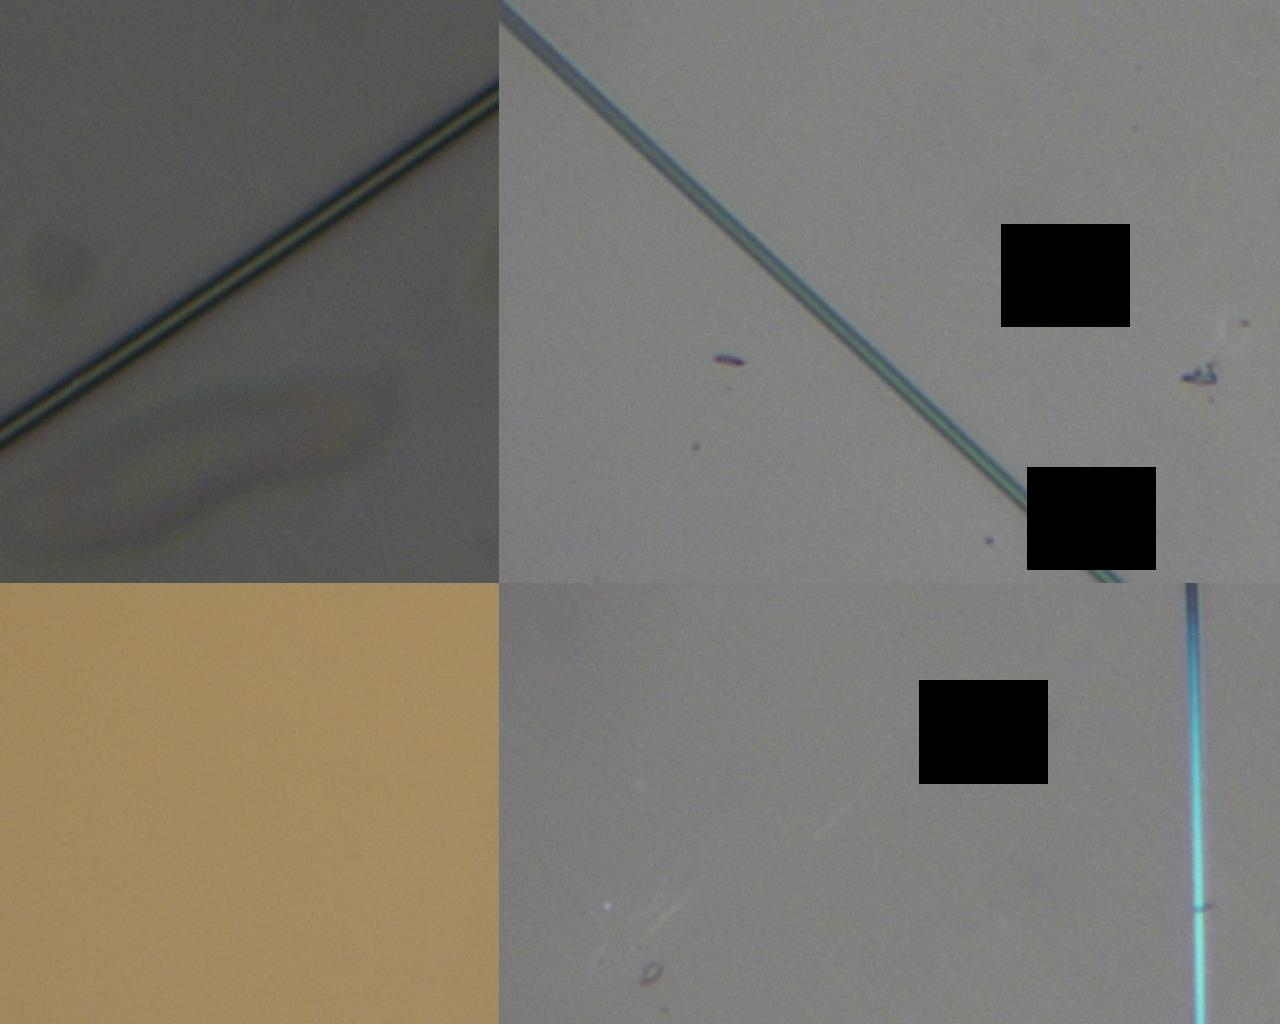fiber: (460, 266, 1237, 449), (931, 0, 1053, 266), (235, 0, 293, 266)
